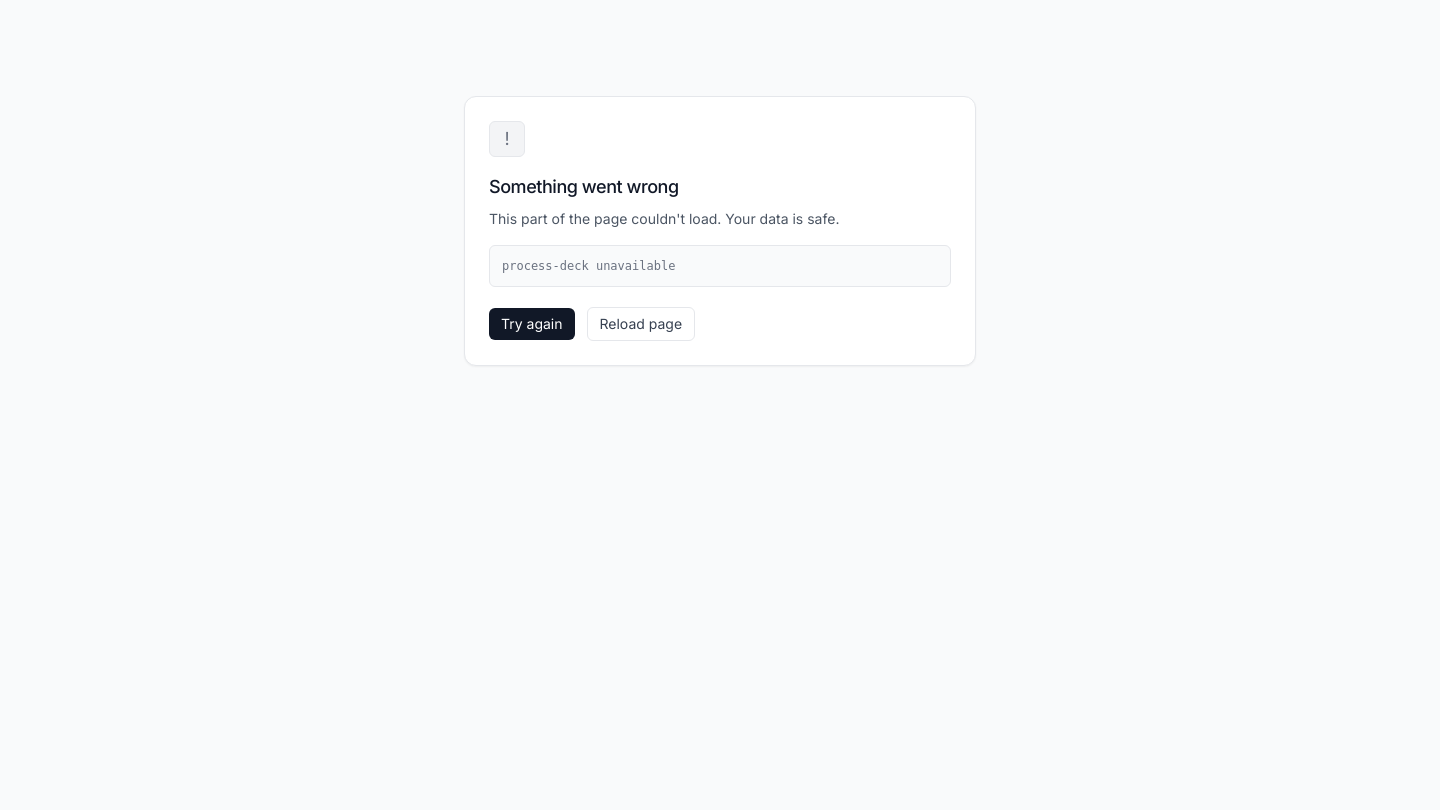
Test: ErrorBoundary › offers a retry that clears the failure
Click the button "Try again" at coordinates (532, 324), box [489,308,574,340]
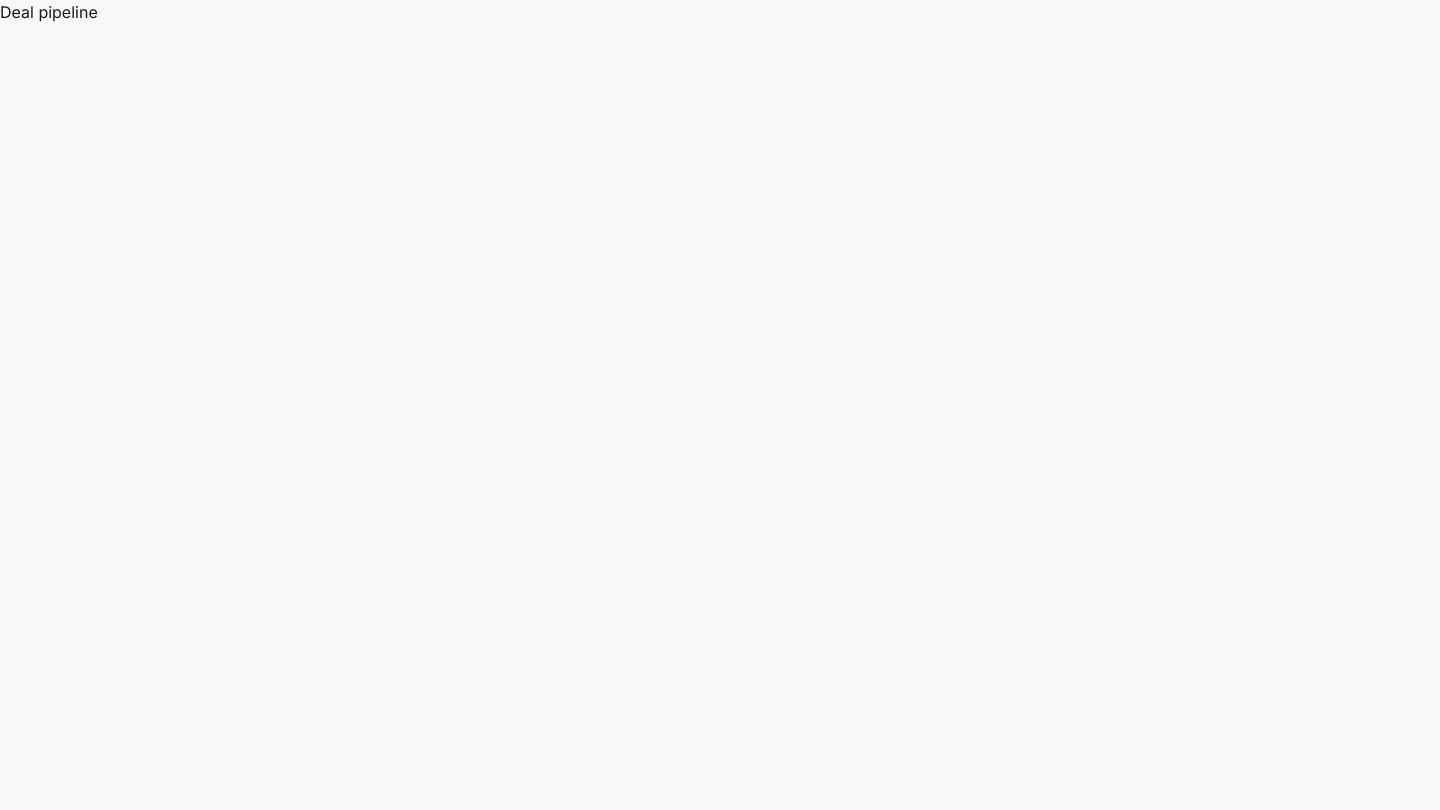
Expected: the text "Deal pipeline" is shown, [0,2,98,22]
